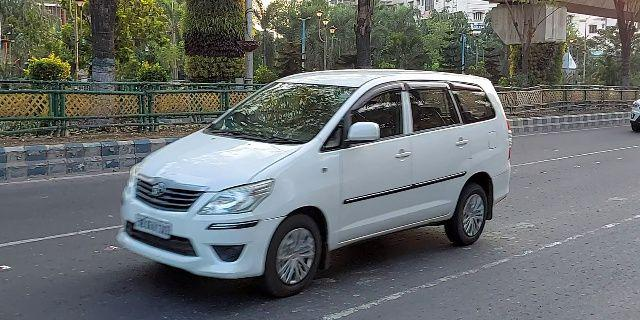Car: (115, 66, 519, 298)
